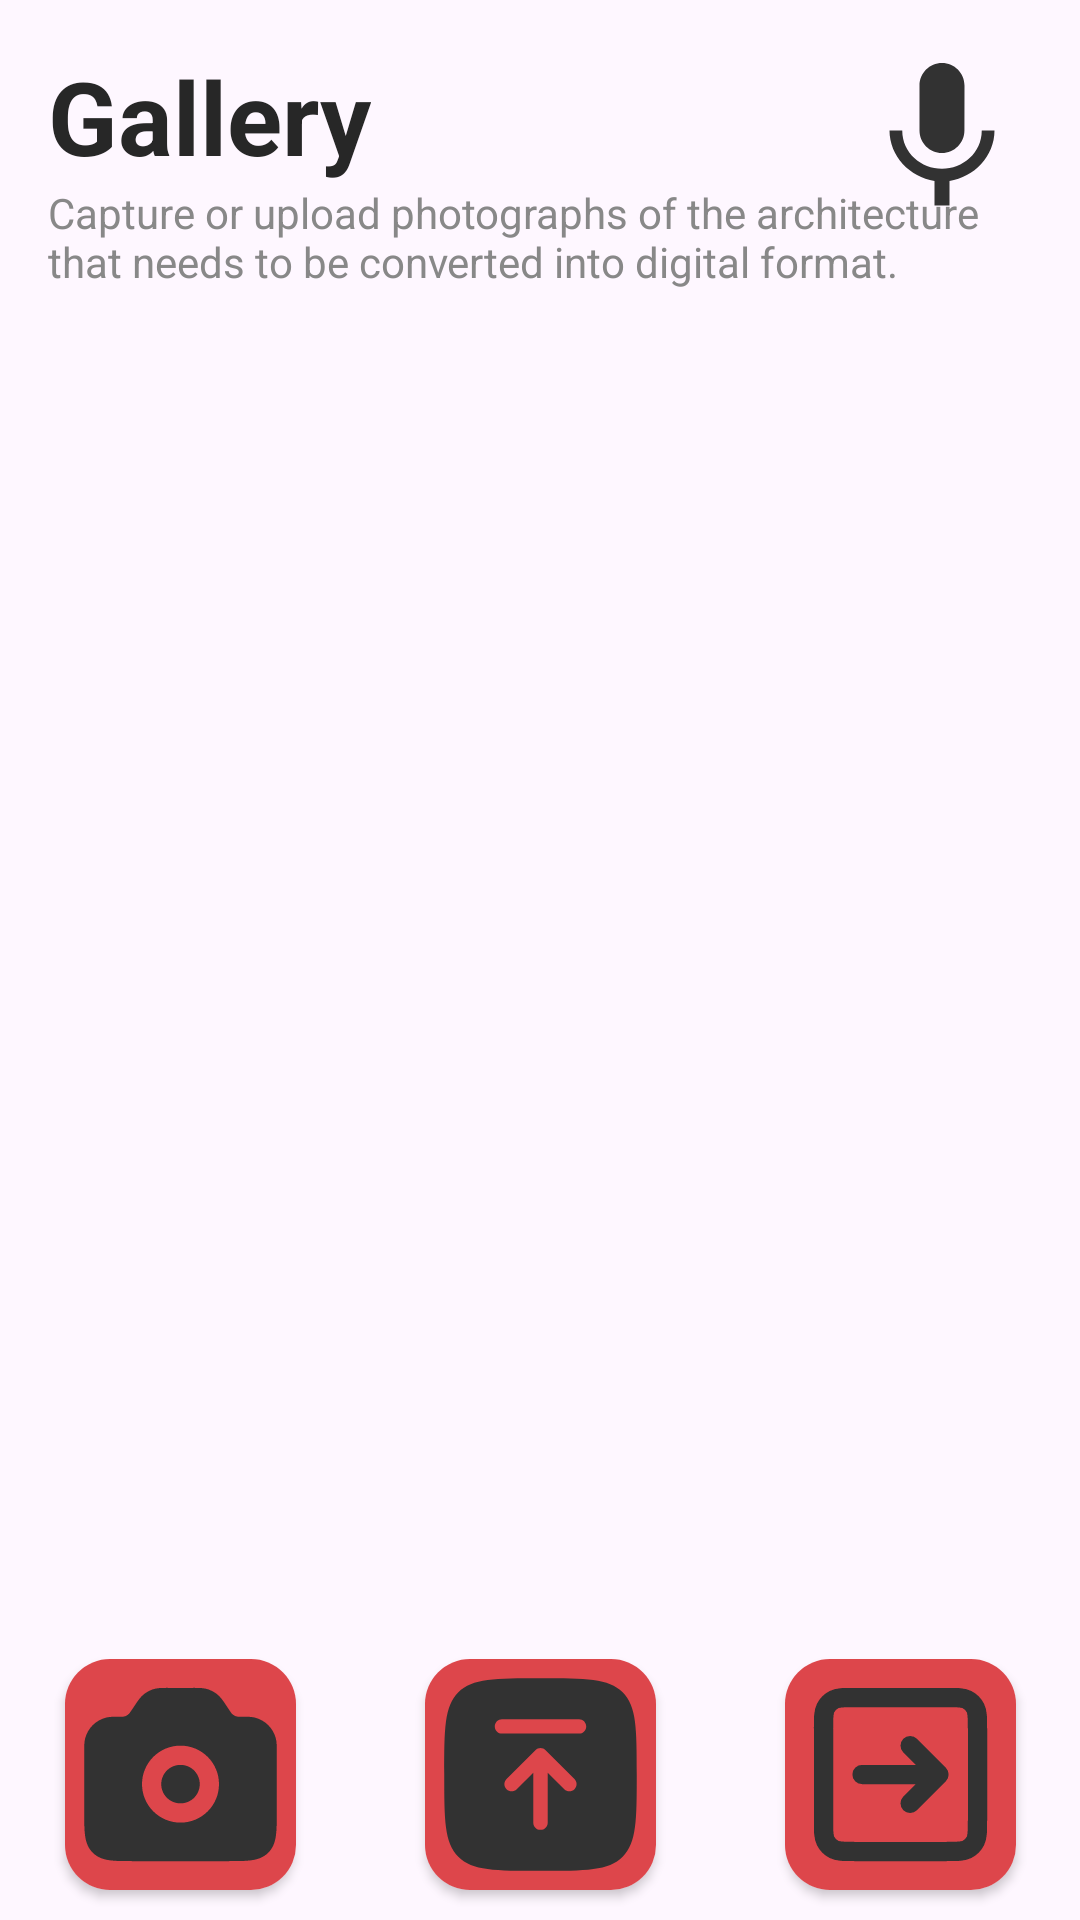

Screen size 1080 x 1920. Icon name, then its center in pixels as (x=x, y=y):
arrow square right: (x=900, y=1774)
camera: (x=180, y=1774)
gallery upload images: (x=540, y=1774)
mic: (x=923, y=145)
